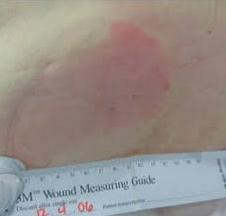Stage1: (60, 19, 173, 154)
